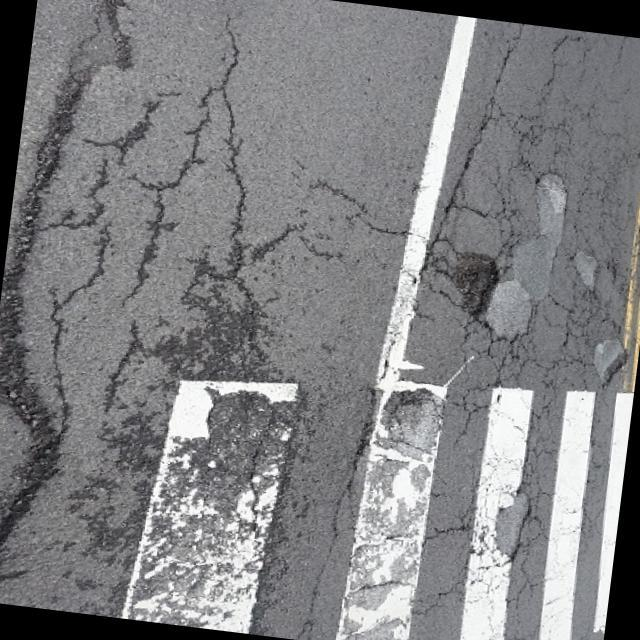pothole: (422, 237, 534, 323)
